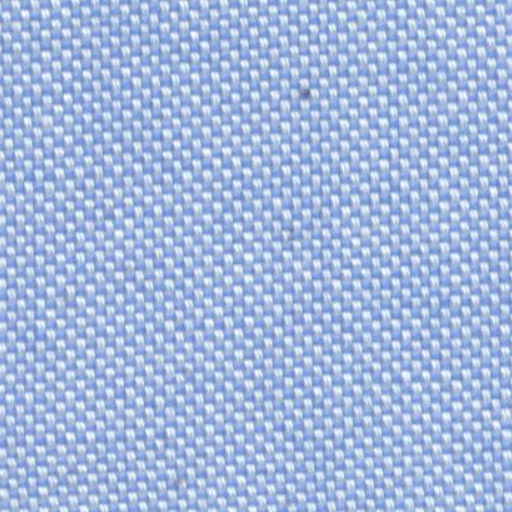WuZi: (281, 79, 333, 111)
